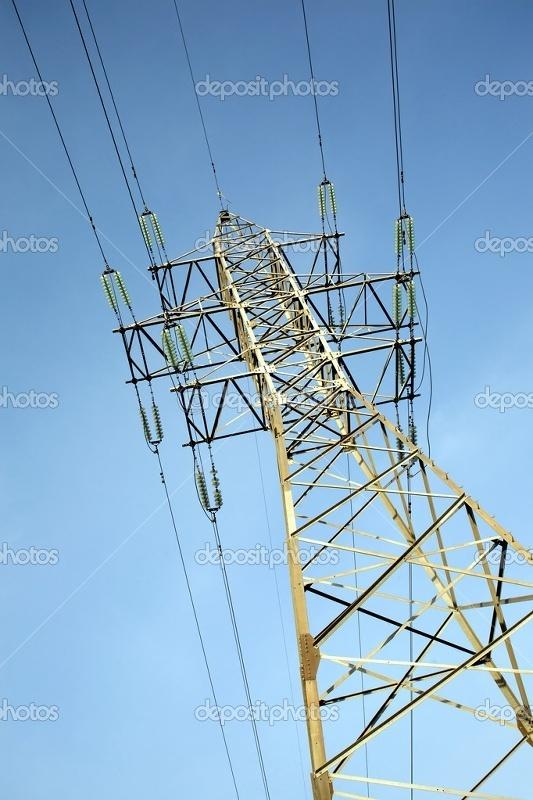power_tower: (120, 212, 525, 791)
